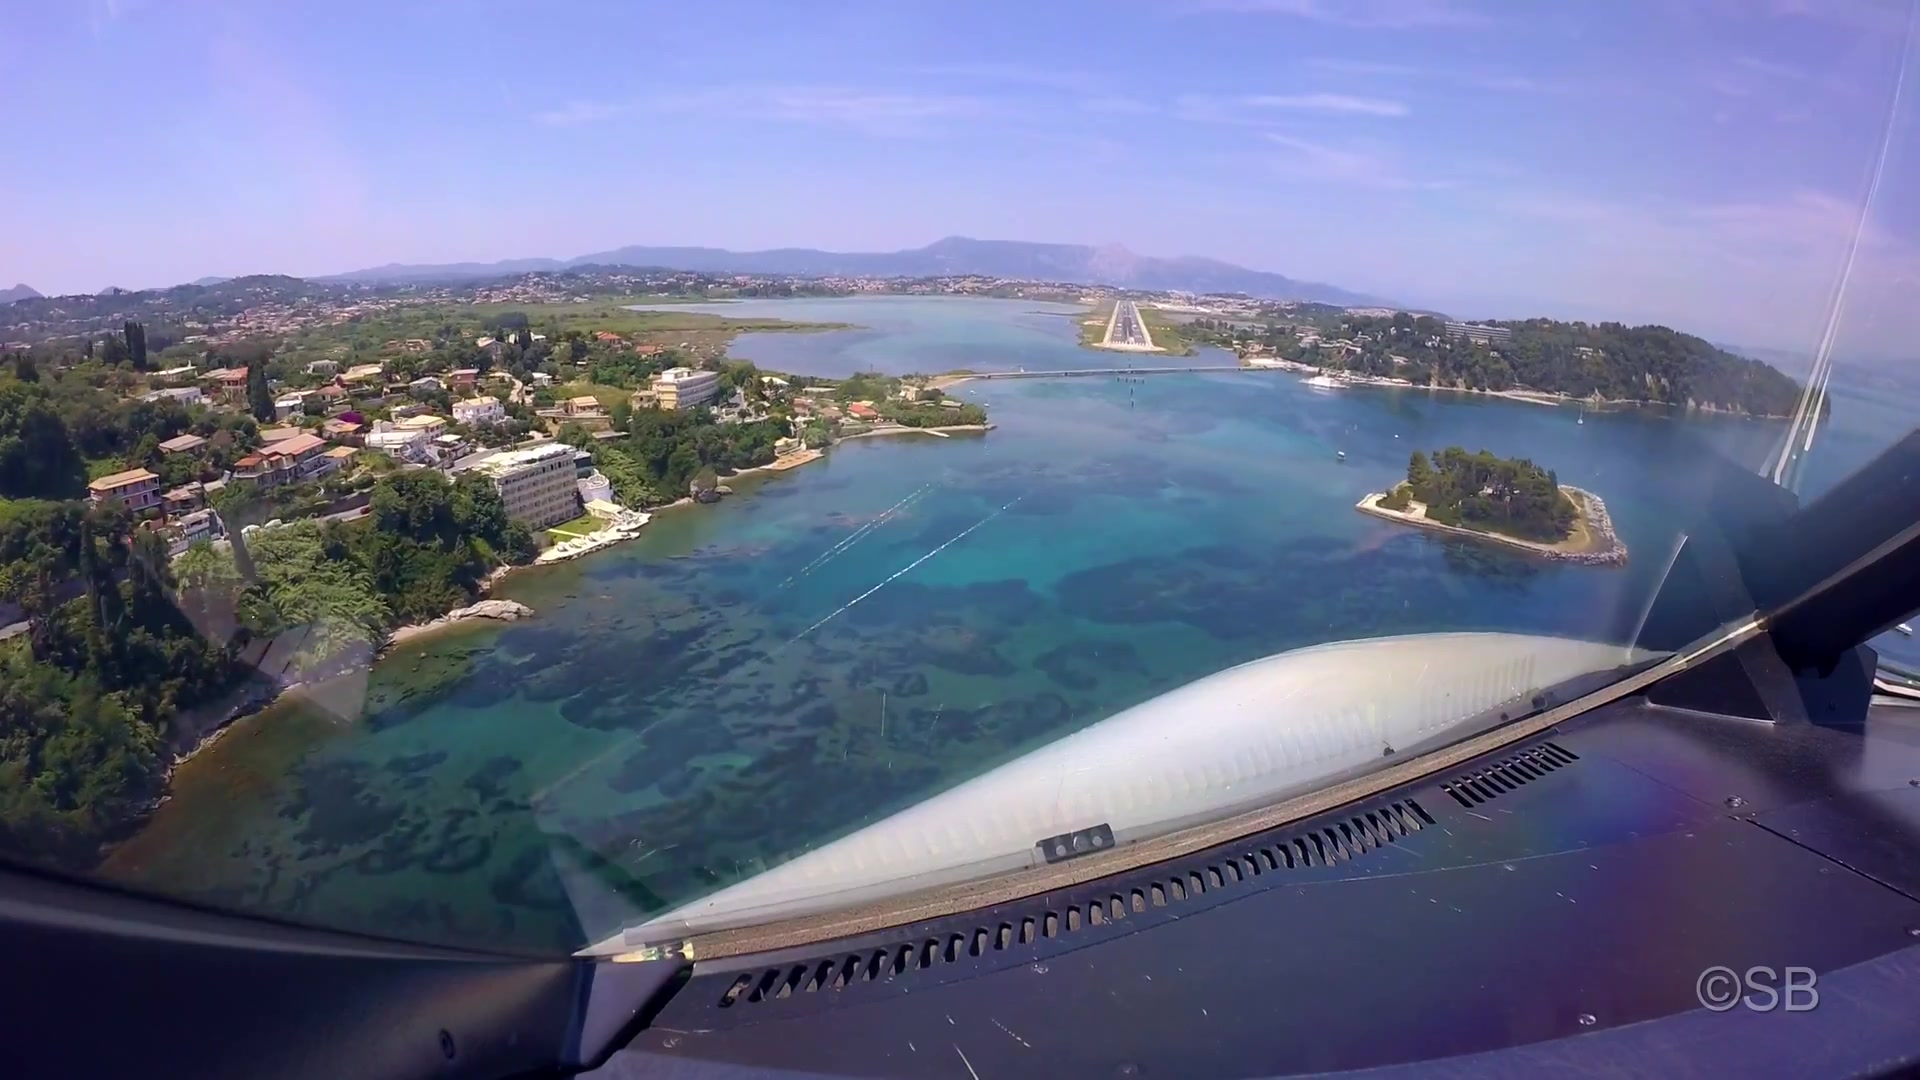entrance: (1109, 340, 1147, 347)
runway: (1106, 299, 1150, 348)
